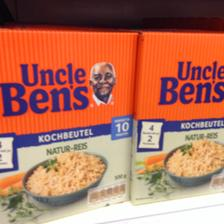Reis: (0, 26, 140, 222), (131, 29, 223, 203)
